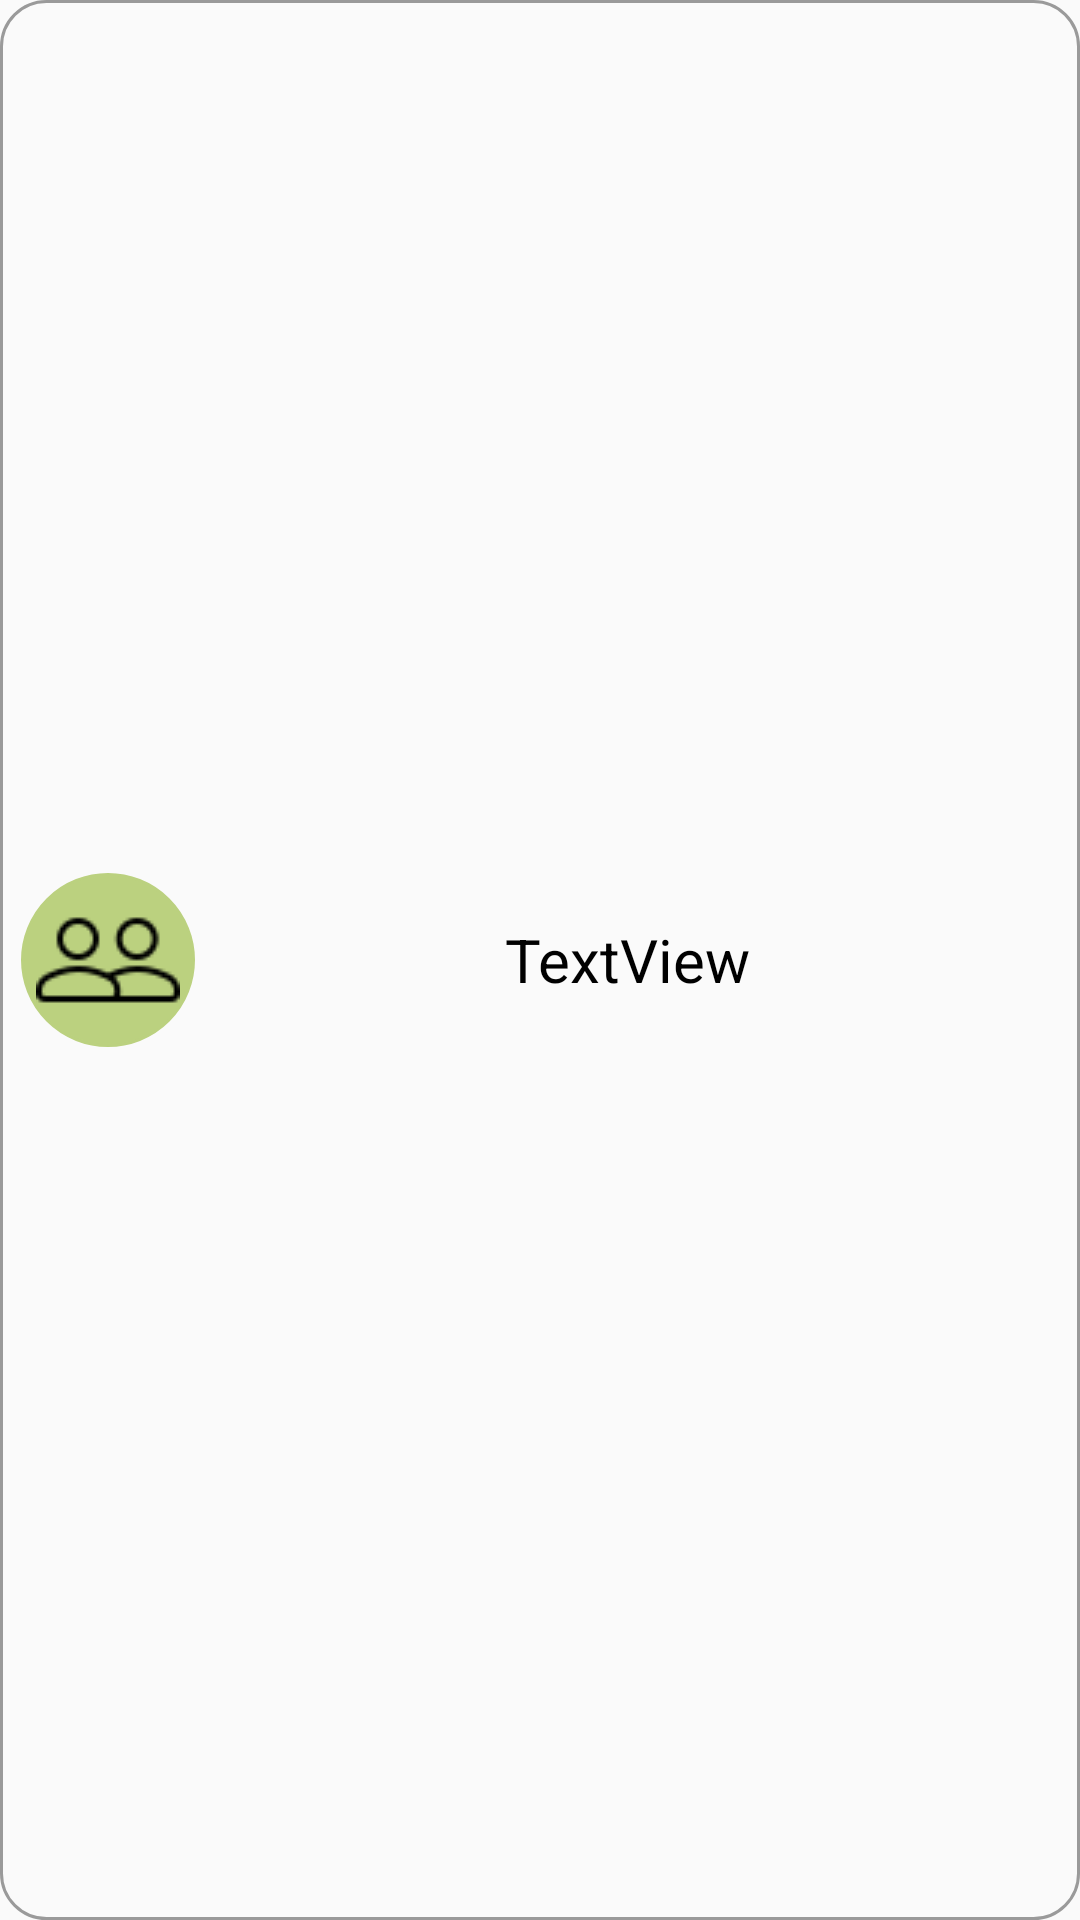

Screen size 1080x1920. Icon name, then its center in pixels as (x=x, y=y):
team: (x=108, y=960)
